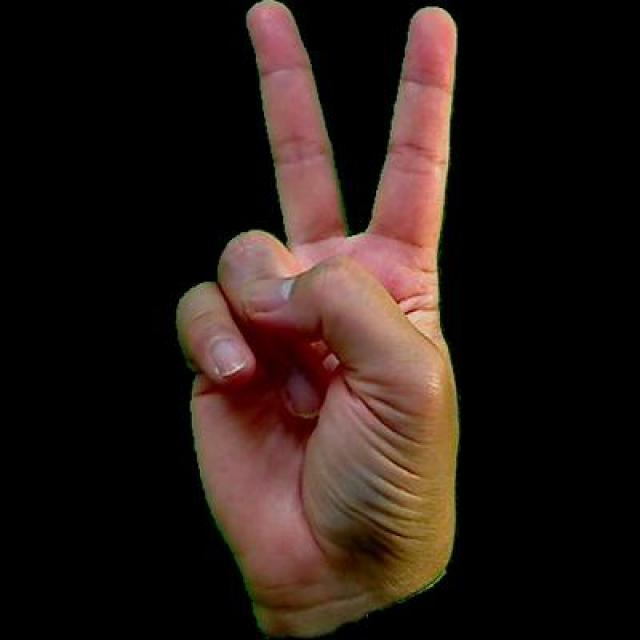v: (150, 0, 468, 637)
